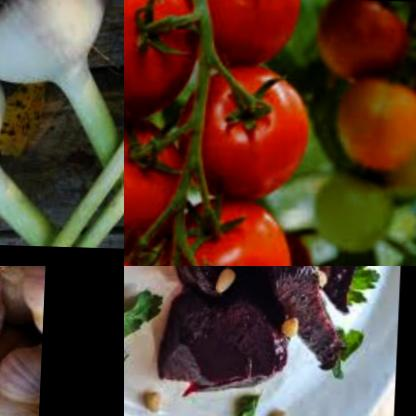beans: (141, 382, 172, 416), (216, 266, 242, 297), (283, 311, 306, 341), (272, 406, 299, 416)
beet: (158, 266, 301, 397), (258, 266, 357, 365), (165, 266, 261, 300)
garlic: (0, 0, 117, 96), (0, 266, 48, 416)
tomato: (191, 62, 308, 190), (124, 107, 196, 251), (124, 0, 205, 128), (328, 64, 416, 179), (179, 186, 304, 266), (308, 158, 398, 258), (198, 0, 312, 66), (311, 0, 408, 76)
